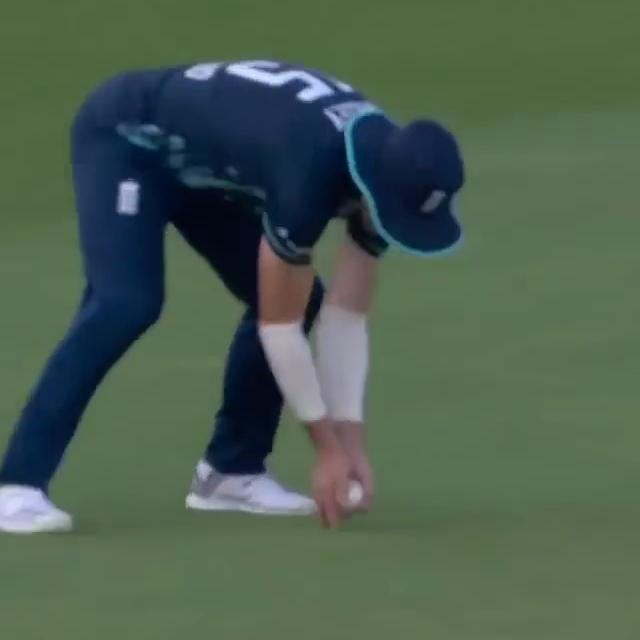person: (0, 42, 471, 533)
